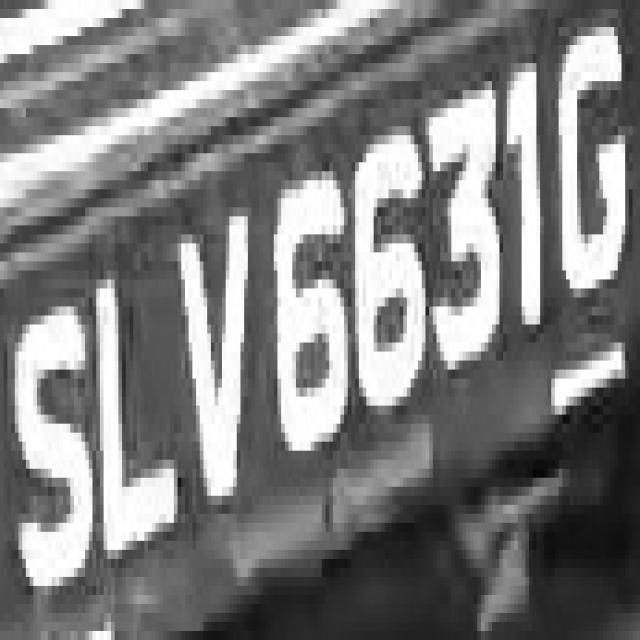1: (492, 54, 544, 343)
3: (422, 54, 503, 406)
6: (344, 108, 429, 451), (274, 135, 348, 478)
G: (551, 45, 629, 325)
L: (85, 252, 189, 559)
S: (8, 288, 96, 604)
V: (178, 189, 252, 514)
